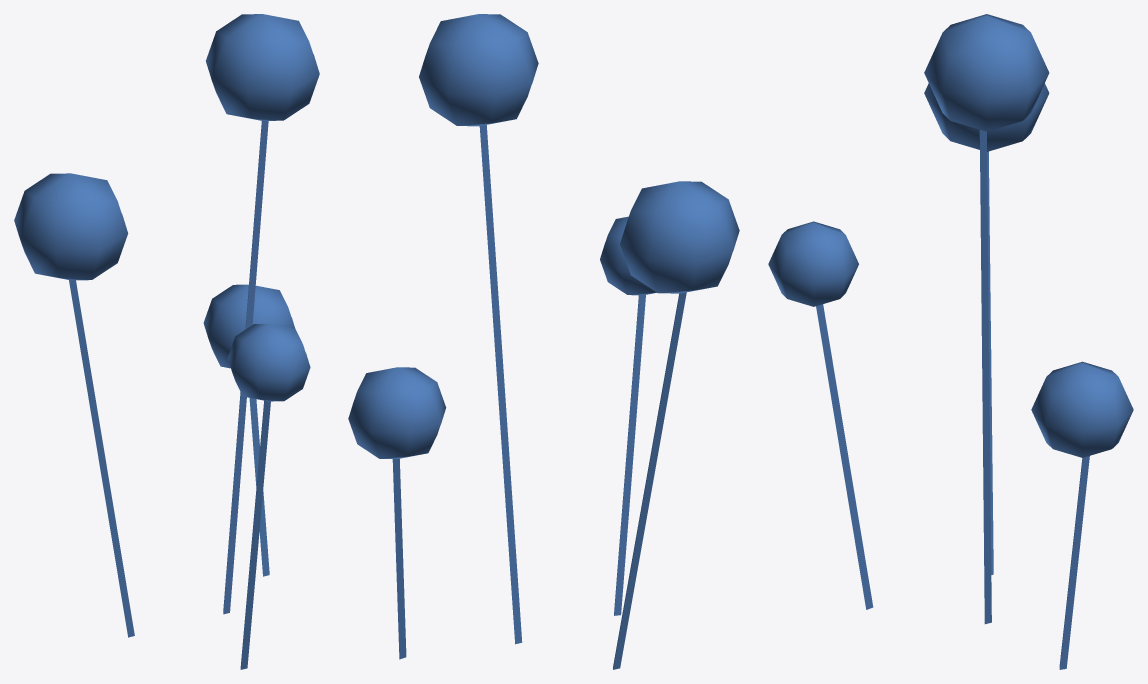
Rendered from Flower_2.fbx.
3 renders of one model, left to right at view 1: azimuth 30°, elevation 25°; view 2: azimuth 150°, elevation 25°; view 3: azimuth 270°, elevation 25°, orthographic. The views are drawn at different scales.
Parts seen in each view (by area): view 1: Line014; view 2: Line014; view 3: Line014.
Part boxes in pixels (bbox=[...]): Line014: bbox=[14, 14, 319, 669]; Line014: bbox=[348, 14, 739, 669]; Line014: bbox=[768, 14, 1133, 669].
Bounding box in the file's own units: 14.13 × 25.41 × 13.3.
